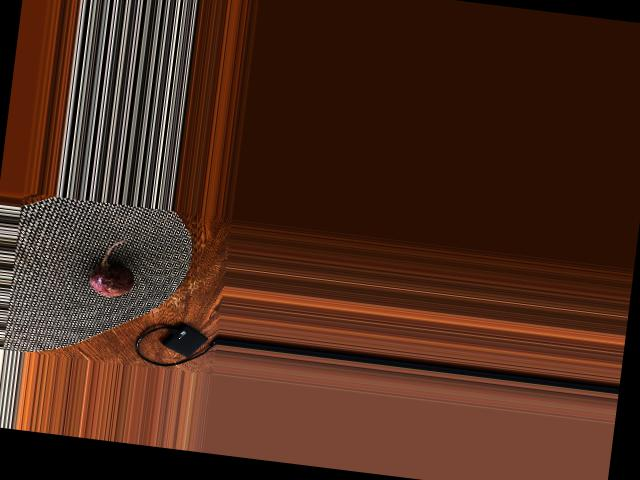beet: (87, 235, 139, 298)
